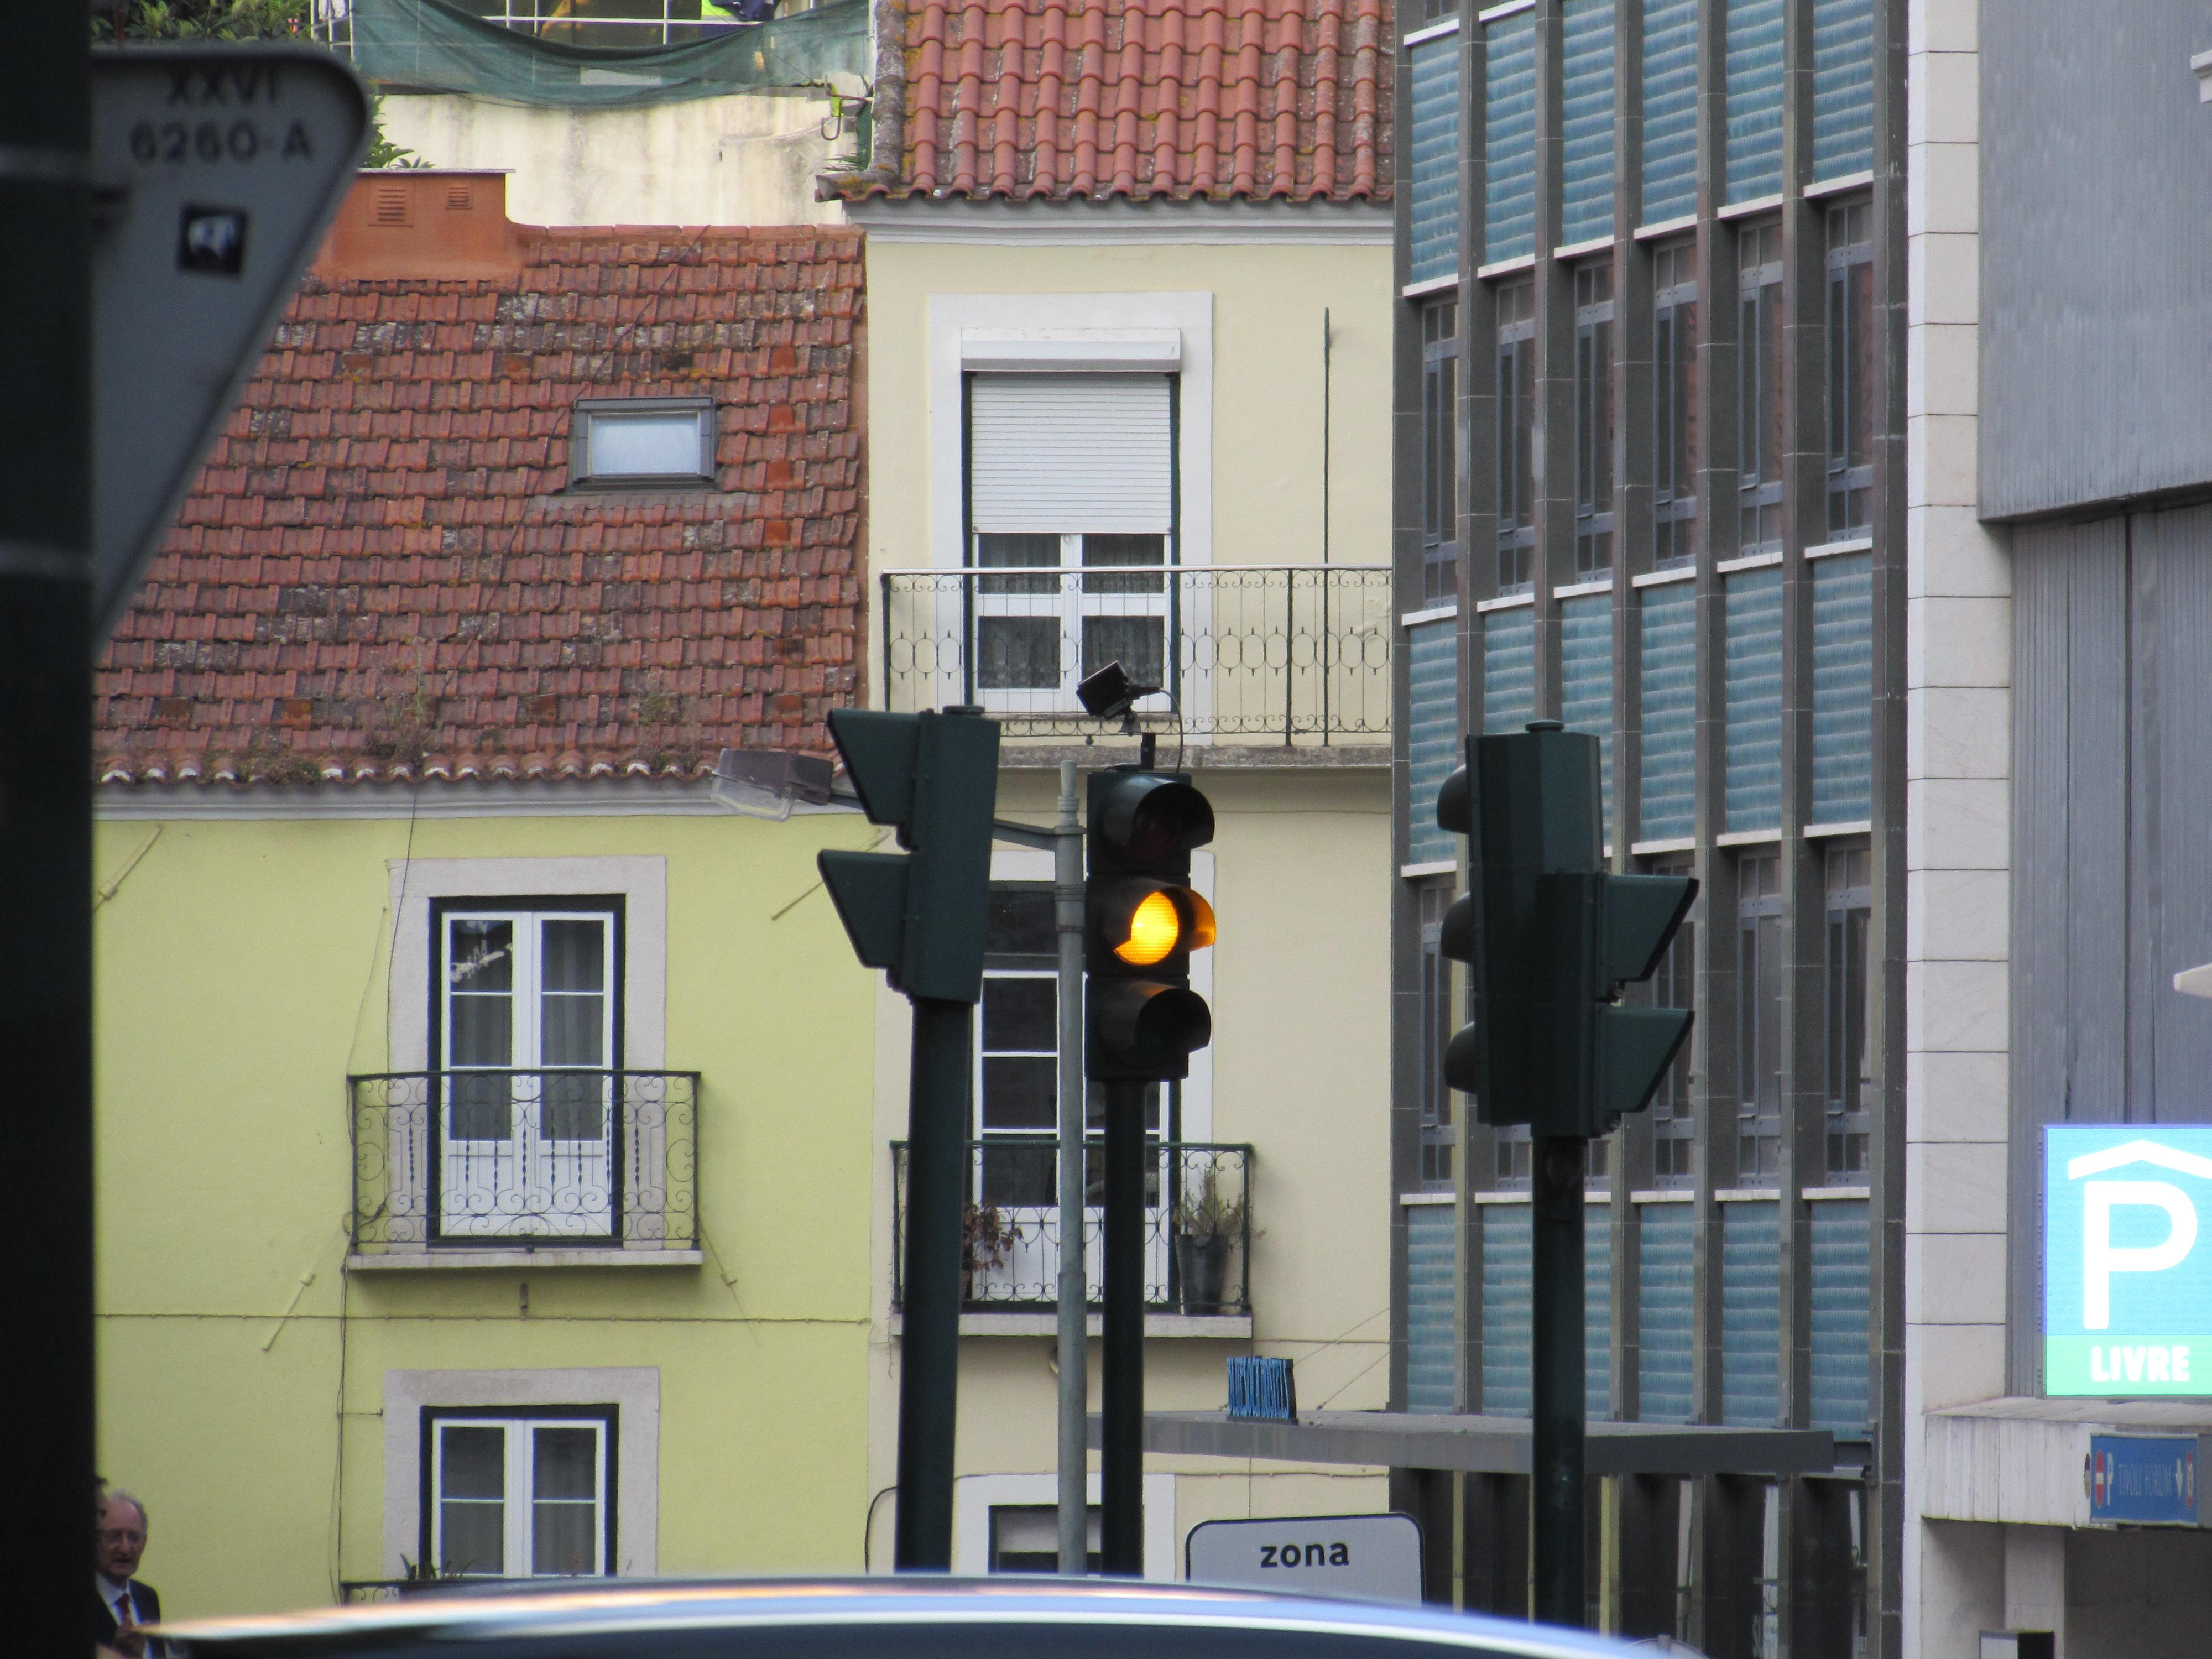yellow_light: (1087, 770, 1216, 1080)
